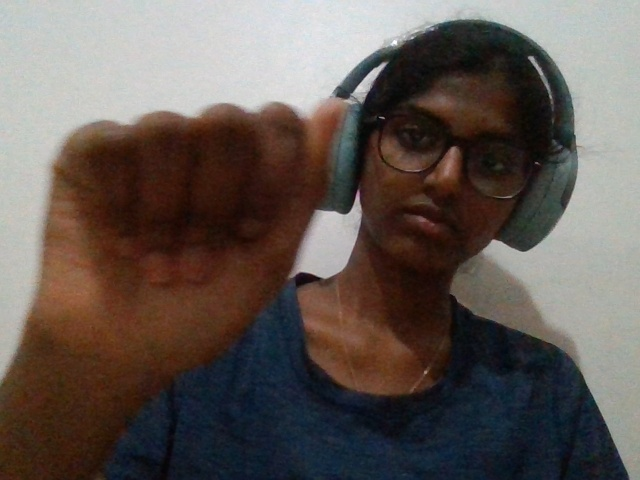A: (7, 79, 353, 457)
